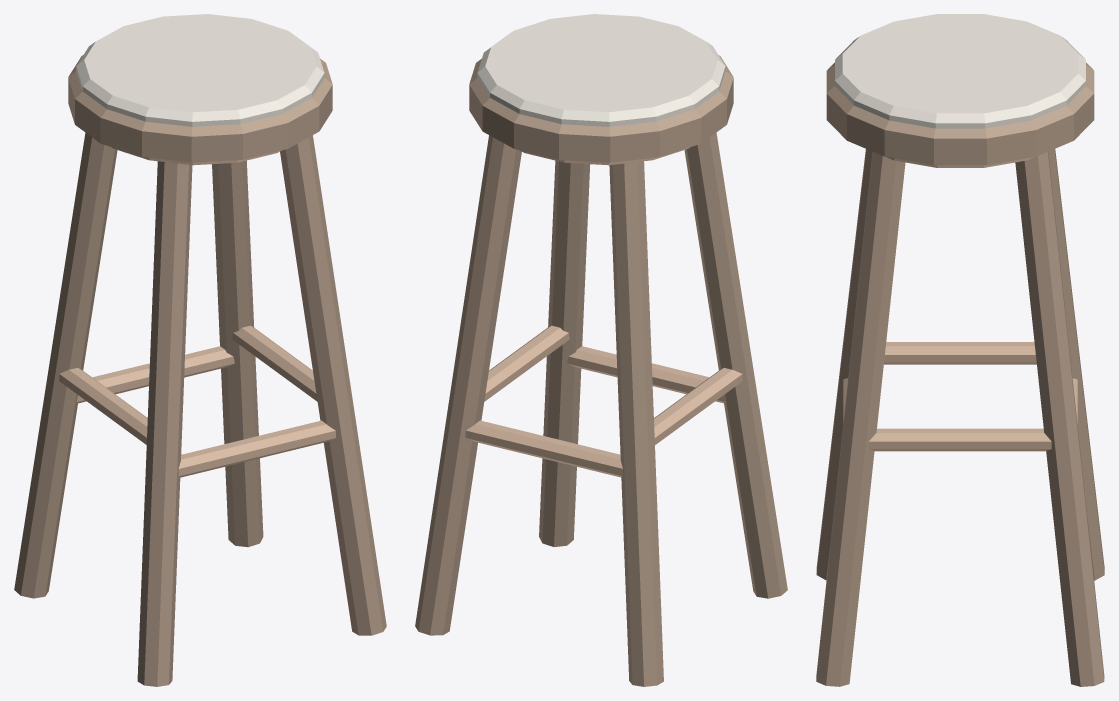
File: Prop_Kitchen_Bar_Stool.fbx
3 views of the same model, side by side, from view 1: azimuth 30°, elevation 25°; view 2: azimuth 150°, elevation 25°; view 3: azimuth 270°, elevation 25° (orthographic). The views are drawn at different scales.
Parts seen in each view (by area): view 1: object1.023; view 2: object1.023; view 3: object1.023.
Part boxes in pixels (left/top/right/bottom): object1.023: left=14, top=14, right=386, bottom=686; object1.023: left=415, top=14, right=787, bottom=686; object1.023: left=816, top=14, right=1104, bottom=686.
Size of the model in its own units: 43.09 by 93.03 by 43.09.
